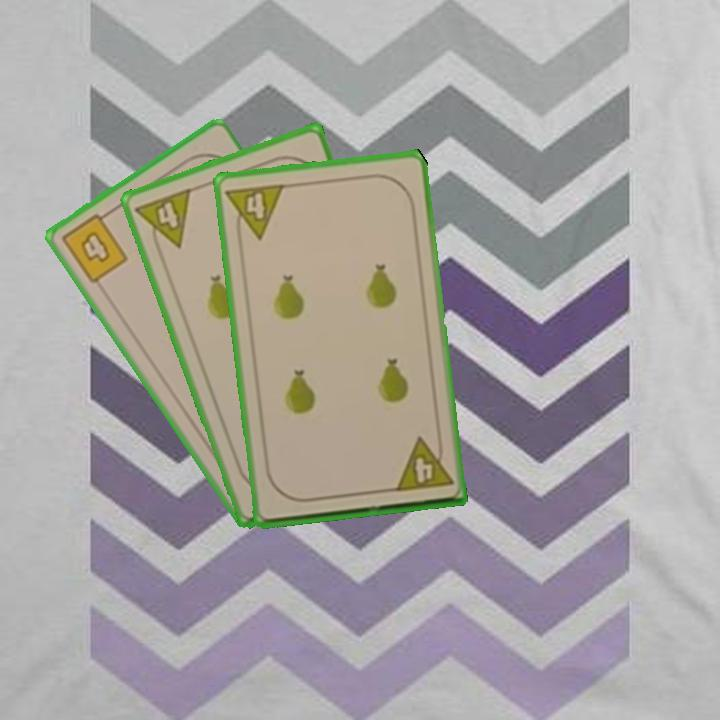4b: (57, 206, 131, 287)
4p: (132, 184, 194, 258), (222, 180, 287, 244), (390, 432, 455, 495)
